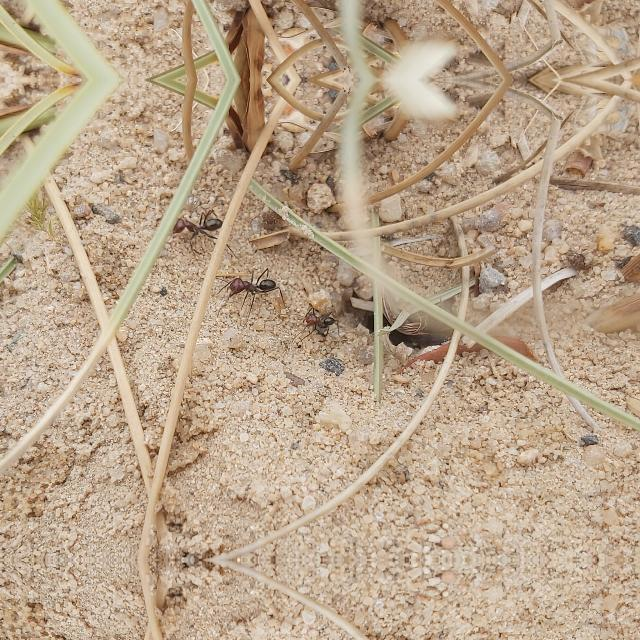Cataglyphis: (220, 269, 288, 305), (166, 208, 232, 244), (302, 306, 340, 339)
